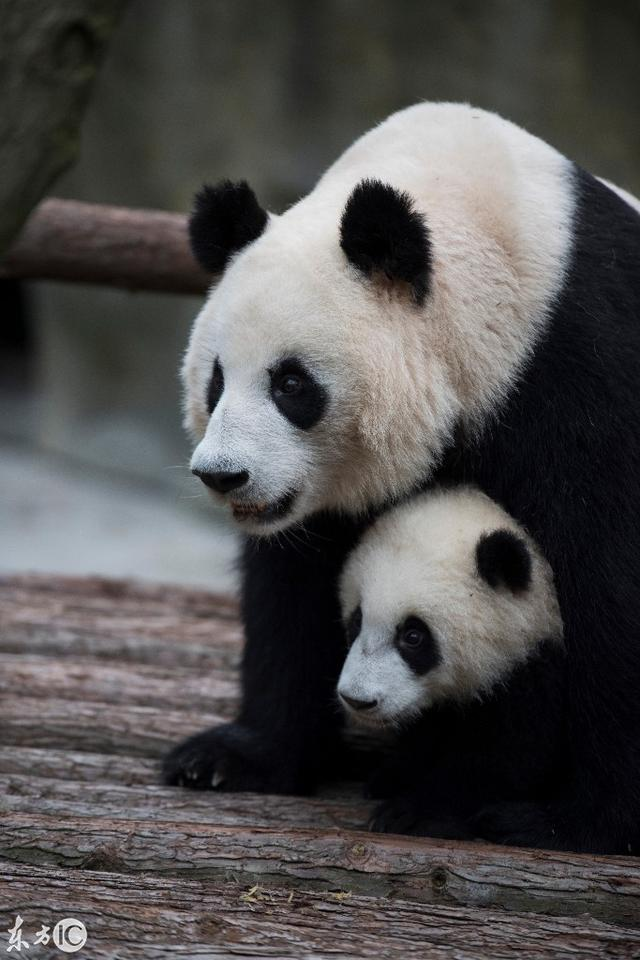panda: (167, 91, 640, 700), (316, 483, 640, 841)
